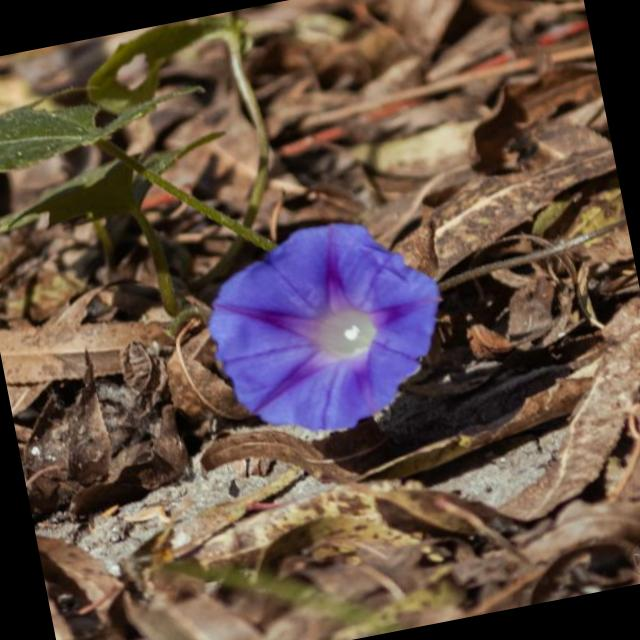ipomoea: (187, 200, 468, 457)
